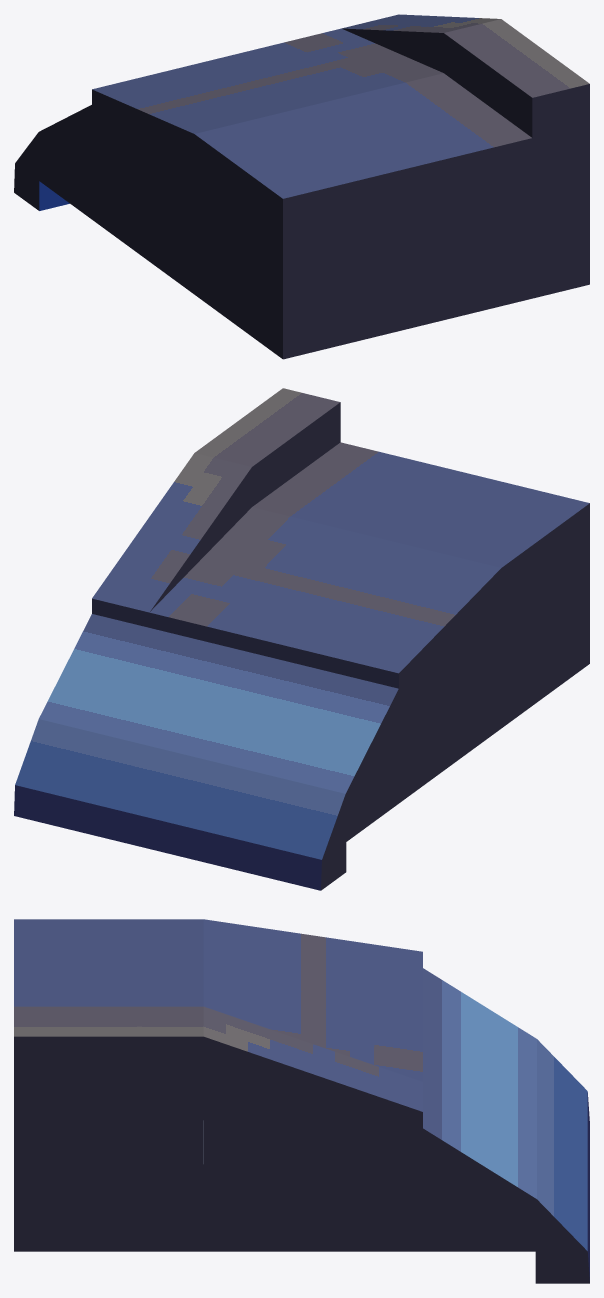
File: df21_dynamic_transition_carport_lh.obj
3 renders of one model, top to bottom at view 1: azimuth 30°, elevation 25°; view 2: azimuth 150°, elevation 25°; view 3: azimuth 270°, elevation 25°, orthographic. The views are drawn at different scales.
Parts seen in each view (by area): view 1: cuboid_selection_selection_selection_selection_selection_selecti; view 2: cuboid_selection_selection_selection_selection_selection_selecti; view 3: cuboid_selection_selection_selection_selection_selection_selecti.
Boxes of the visible parts, <box> form: cuboid_selection_selection_selection_selection_selection_selecti: <box>14,14,589,359</box>; cuboid_selection_selection_selection_selection_selection_selecti: <box>14,388,589,890</box>; cuboid_selection_selection_selection_selection_selection_selecti: <box>14,919,589,1283</box>.
Bounding box in the file's own units: 1 × 0.7188 × 1.52.
